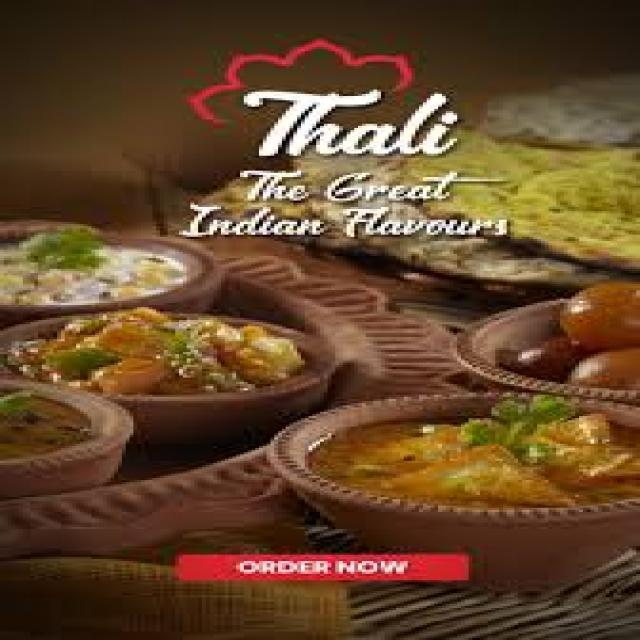dal: (316, 402, 625, 520)
veg-fry: (319, 399, 629, 514)
